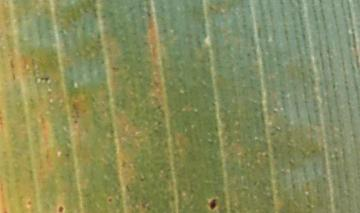tarspot: (208, 198, 217, 210), (8, 58, 16, 71), (38, 75, 49, 83), (56, 204, 65, 213), (25, 198, 33, 207), (144, 10, 152, 19), (10, 71, 16, 82), (63, 151, 71, 159), (110, 66, 119, 73), (245, 51, 252, 59), (72, 118, 78, 125), (107, 196, 112, 203)
